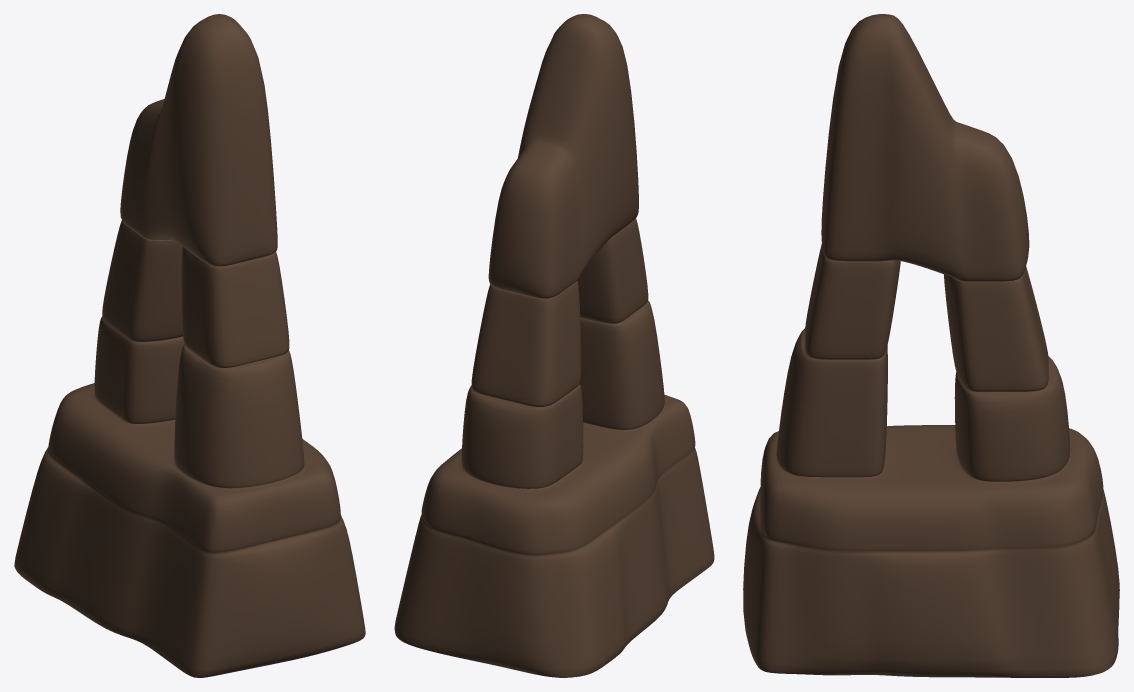
File: Stone.fbx
3 views of the same model, side by side, from view 1: azimuth 30°, elevation 25°; view 2: azimuth 150°, elevation 25°; view 3: azimuth 270°, elevation 25° (orthographic). The views are drawn at different scales.
Visible parts, largest first — view 1: Stone; view 2: Stone; view 3: Stone.
Boxes of the visible parts, x1=… form: Stone: x1=14, y1=14, x2=365, y2=677; Stone: x1=394, y1=14, x2=714, y2=677; Stone: x1=743, y1=14, x2=1119, y2=677.
Size of the model in its own units: 133 by 347 by 193.
